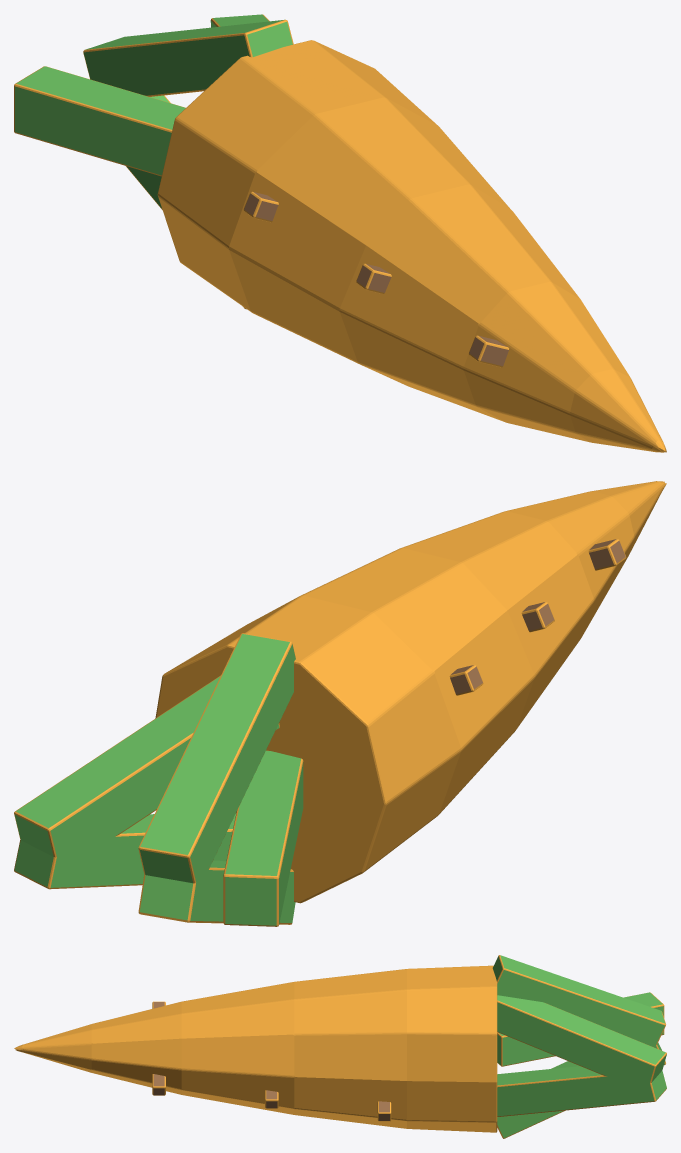
File: Pieza_Zanahoria.glb
3 views of the same model, one above another, from view 1: azimuth 30°, elevation 25°; view 2: azimuth 150°, elevation 25°; view 3: azimuth 270°, elevation 25° (orthographic). The views are drawn at different scales.
Parts seen in each view (by area): view 1: Pieza_Zanahoria; view 2: Pieza_Zanahoria; view 3: Pieza_Zanahoria.
Part boxes in pixels (left/top/right/bottom): Pieza_Zanahoria: left=14, top=14, right=666, bottom=452; Pieza_Zanahoria: left=14, top=481, right=666, bottom=926; Pieza_Zanahoria: left=14, top=955, right=666, bottom=1138.
Bounding box in the file's own units: 0.1615 × 0.1672 × 0.5795.
